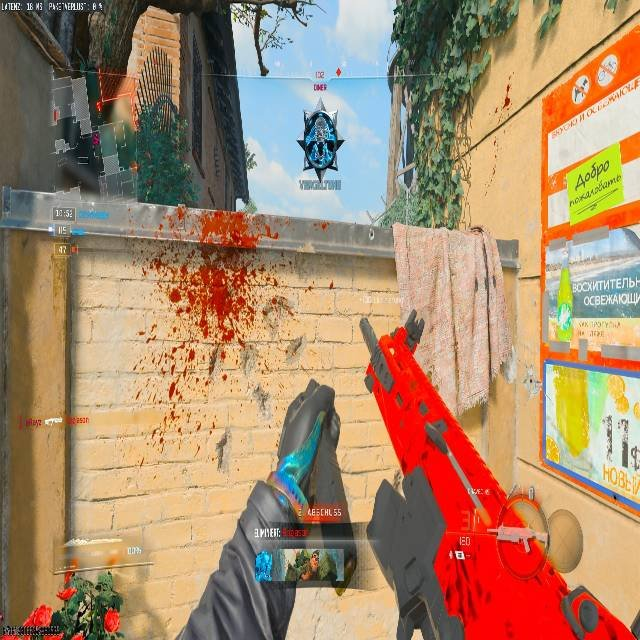player: (54, 126, 106, 195), (297, 107, 342, 185)
